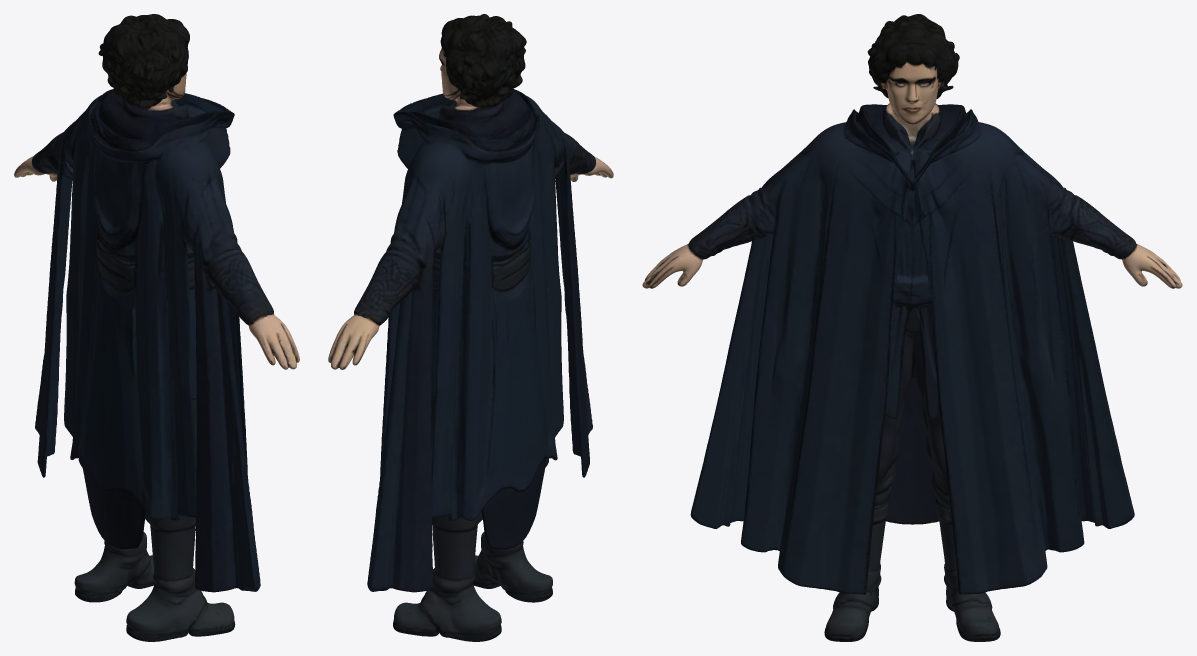
Rendered from male-raw.glb.
3 views of the same model, side by side, from view 1: azimuth 30°, elevation 25°; view 2: azimuth 150°, elevation 25°; view 3: azimuth 270°, elevation 25° (orthographic).
Visible parts, largest first — view 1: tripo_node_82acf45b-6d96-4887-ba4f-38115bb98d20; view 2: tripo_node_82acf45b-6d96-4887-ba4f-38115bb98d20; view 3: tripo_node_82acf45b-6d96-4887-ba4f-38115bb98d20.
Part boxes in pixels (<box>): tripo_node_82acf45b-6d96-4887-ba4f-38115bb98d20: <box>14,14,299,641</box>; tripo_node_82acf45b-6d96-4887-ba4f-38115bb98d20: <box>328,14,613,641</box>; tripo_node_82acf45b-6d96-4887-ba4f-38115bb98d20: <box>642,14,1182,641</box>.
Bounding box in the file's own units: 0.2335 × 1 × 0.8168.
Materials: 1 (1 with a texture image).
